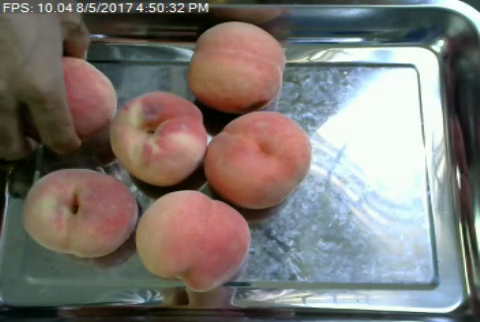Peach: (135, 190, 247, 289), (205, 110, 310, 210), (23, 169, 138, 257), (110, 89, 208, 187), (188, 20, 283, 113), (59, 53, 117, 140)
